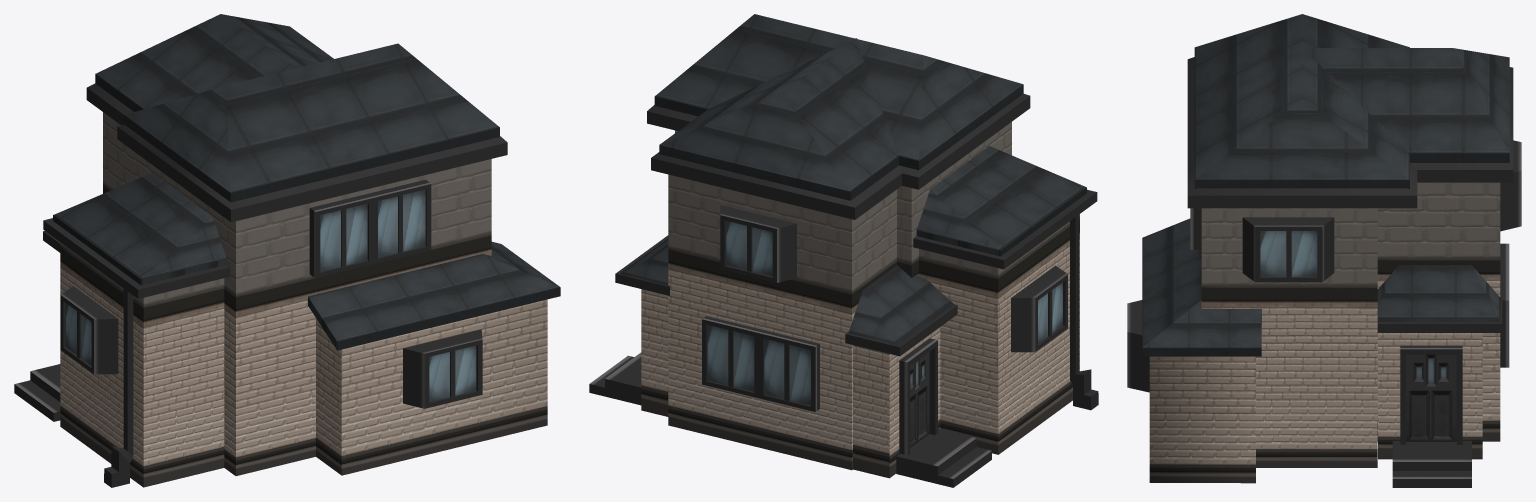
Rendered from modern house-4.FBX.
The picture shows the model from 3 angles, left to right: view 1: azimuth 30°, elevation 25°; view 2: azimuth 150°, elevation 25°; view 3: azimuth 270°, elevation 25°; orthographic projection. The views are drawn at different scales.
Parts seen in each view (by area): view 1: modern house-4; view 2: modern house-4; view 3: modern house-4.
Part boxes in pixels (<box>): modern house-4: <box>14,14,560,487</box>; modern house-4: <box>589,14,1098,487</box>; modern house-4: <box>1127,14,1521,487</box>.
Size of the model in its own units: 4230 by 3461 by 3555.
